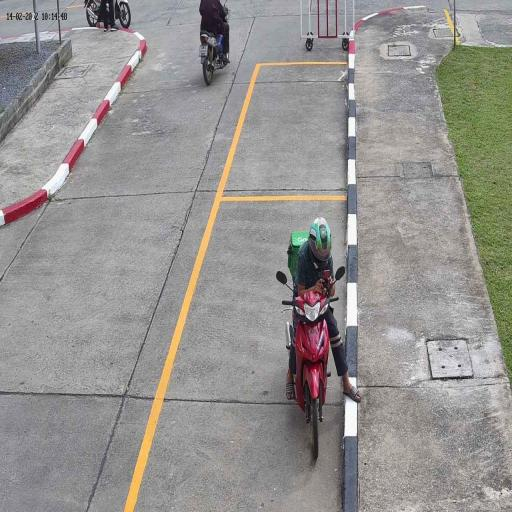motorcycle: (288, 289, 334, 467), (198, 16, 232, 87), (84, 0, 132, 31)
